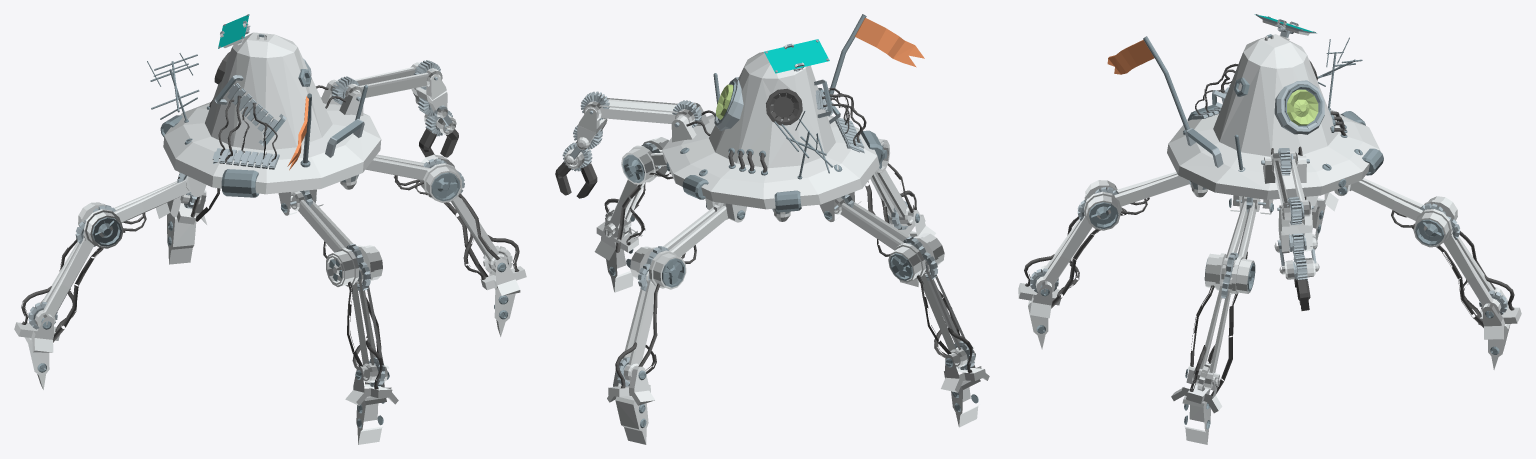
Rendered from botbot.glb.
3 views of the same model, side by side, from view 1: azimuth 30°, elevation 25°; view 2: azimuth 150°, elevation 25°; view 3: azimuth 270°, elevation 25° (orthographic). The views are drawn at different scales.
Parts seen in each view (by area): view 1: group2077100729, group685396846, group161799442, group1824546677, group970566641, group1629908125, group1590585597, group165306199, group429850920, group1772980399, group1412140600, group565633655 (+1 smaller); view 2: group2077100729, group970566641, group161799442, group1824546677, group685396846, group1186366864, group1772980399, group565633655, group390355538, group429850920, group1629908125, group290519968 (+4 smaller); view 3: group2077100729, group1824546677, group970566641, group685396846, group290519968, group573830255, group1186366864, group161799442, group1629908125, group1916840619, group1934058280, group1412140600 (+1 smaller).
Boxes of the visible parts, bbox=[...] form: group2077100729: bbox=[163, 32, 381, 194]; group685396846: bbox=[278, 189, 398, 444]; group161799442: bbox=[14, 172, 206, 389]; group1824546677: bbox=[365, 154, 526, 336]; group970566641: bbox=[156, 174, 220, 264]; group1629908125: bbox=[344, 68, 442, 97]; group1590585597: bbox=[221, 169, 258, 197]; group165306199: bbox=[219, 148, 279, 169]; group429850920: bbox=[419, 117, 458, 157]; group1772980399: bbox=[218, 14, 249, 48]; group1412140600: bbox=[321, 79, 363, 115]; group565633655: bbox=[330, 62, 420, 94]; group2077100729: bbox=[662, 52, 879, 209]; group970566641: bbox=[607, 198, 746, 444]; group161799442: bbox=[819, 192, 989, 427]; group1824546677: bbox=[594, 137, 673, 292]; group685396846: bbox=[865, 137, 935, 286]; group1186366864: bbox=[855, 18, 924, 67]; group1772980399: bbox=[764, 39, 829, 73]; group565633655: bbox=[583, 101, 694, 125]; group390355538: bbox=[766, 88, 802, 125]; group429850920: bbox=[555, 150, 597, 198]; group1629908125: bbox=[598, 93, 697, 114]; group290519968: bbox=[714, 77, 743, 130]; group2077100729: bbox=[1167, 34, 1379, 199]; group1824546677: bbox=[1171, 195, 1273, 444]; group970566641: bbox=[1334, 178, 1521, 369]; group685396846: bbox=[1018, 172, 1191, 349]; group290519968: bbox=[1274, 80, 1324, 134]; group573830255: bbox=[1287, 89, 1318, 125]; group1186366864: bbox=[1107, 40, 1154, 74]; group161799442: bbox=[1304, 192, 1338, 250]; group1629908125: bbox=[1270, 153, 1290, 221]; group1916840619: bbox=[1143, 36, 1189, 134]; group1934058280: bbox=[1185, 128, 1223, 167]; group1412140600: bbox=[1261, 156, 1309, 183].
Size of the model in its own units: 0.5169 by 0.3675 by 0.5156.
